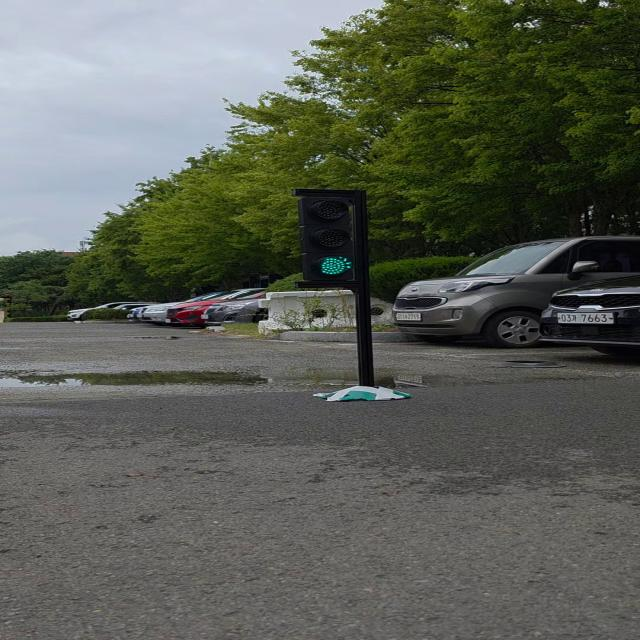green: (295, 191, 363, 287)
